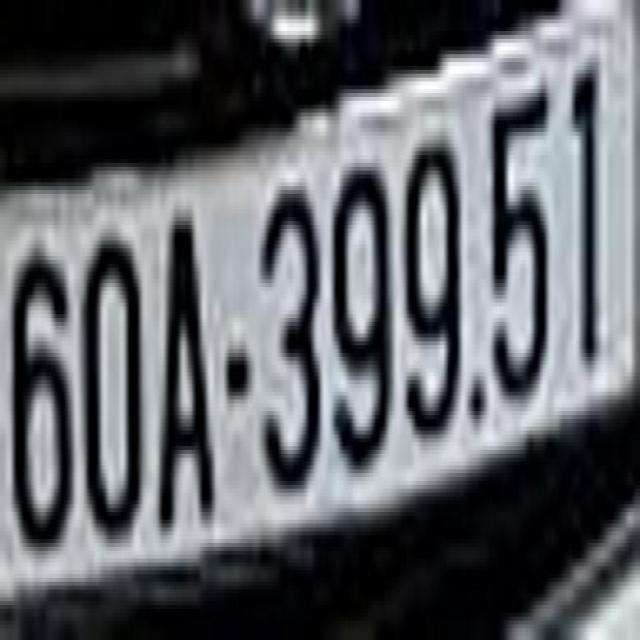0: (78, 205, 146, 547)
1: (567, 42, 603, 364)
3: (260, 155, 314, 493)
5: (488, 70, 552, 412)
6: (8, 228, 70, 562)
9: (331, 151, 398, 473), (404, 128, 464, 442)
A: (154, 209, 218, 532)
